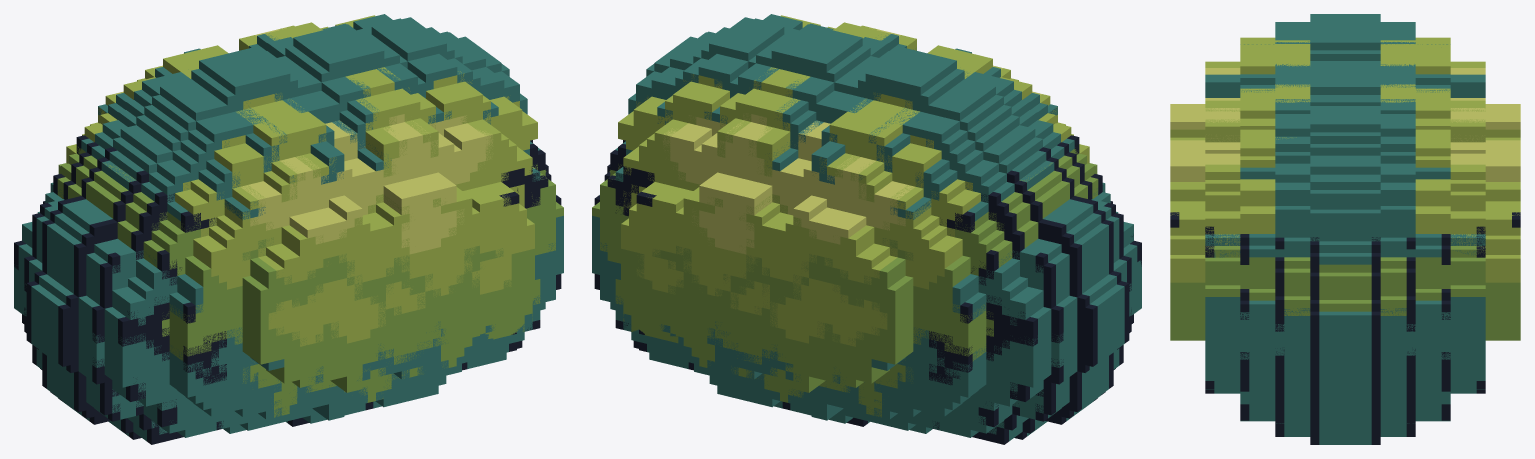
Rendered from Bushe1.glb.
3 views of the same model, side by side, from view 1: azimuth 30°, elevation 25°; view 2: azimuth 150°, elevation 25°; view 3: azimuth 270°, elevation 25° (orthographic). The views are drawn at different scales.
Visible parts, largest first — view 1: q0, q2, q3, q1, q4, q5, q6; view 2: q0, q2, q3, q1, q4, q5, q6; view 3: q0, q2, q3, q4, q5.
Part boxes in pixels (x1,y1,x2,y2): q0: [14, 16, 561, 444]; q2: [24, 14, 555, 436]; q3: [56, 31, 555, 437]; q1: [14, 190, 182, 416]; q4: [87, 28, 563, 435]; q5: [204, 109, 561, 430]; q6: [258, 324, 524, 406]; q0: [594, 16, 1141, 444]; q2: [600, 14, 1132, 435]; q3: [600, 31, 1117, 438]; q1: [973, 189, 1141, 416]; q4: [592, 28, 1069, 435]; q5: [594, 112, 952, 429]; q6: [623, 298, 896, 406]; q0: [1170, 14, 1520, 444]; q2: [1170, 28, 1520, 393]; q3: [1170, 41, 1520, 439]; q4: [1170, 104, 1520, 423]; q5: [1170, 140, 1520, 432].
Size of the model in its own units: 62 by 42 by 40.
1 material, 1 textured.
